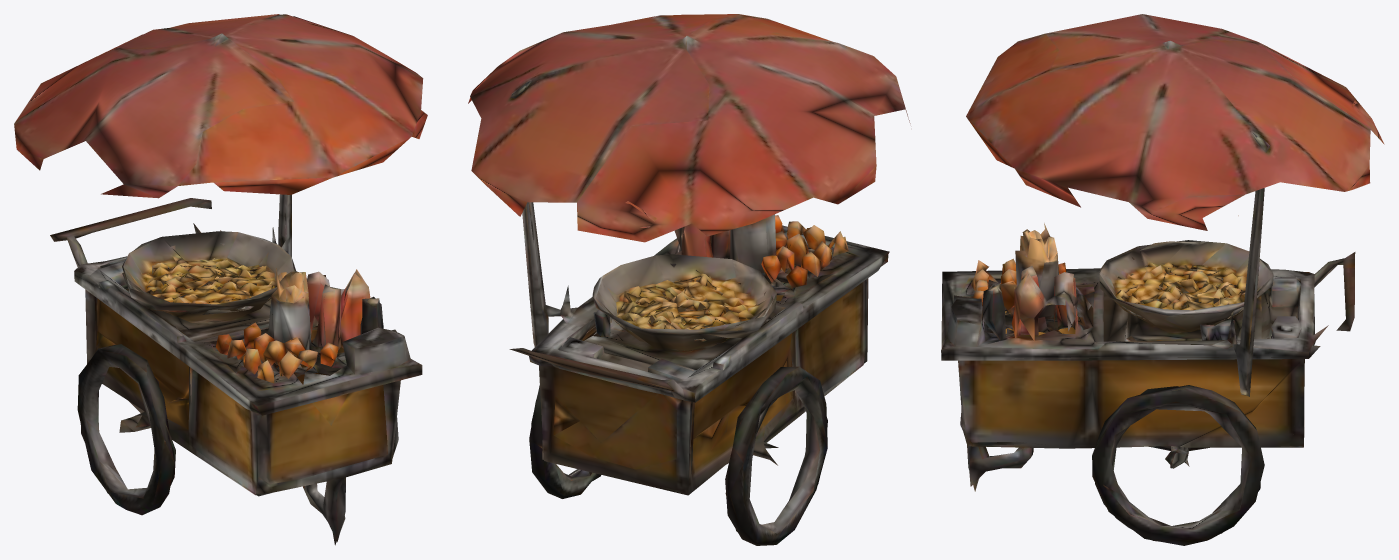
Rendered from fishball-cart.glb.
The picture shows the model from 3 angles, left to right: view 1: azimuth 30°, elevation 25°; view 2: azimuth 150°, elevation 25°; view 3: azimuth 270°, elevation 25°; orthographic projection. The views are drawn at different scales.
Parts seen in each view (by area): view 1: geometry_0; view 2: geometry_0; view 3: geometry_0.
Part boxes in pixels (x1=…): geometry_0: x1=14, y1=14, x2=427, y2=545; geometry_0: x1=468, y1=14, x2=910, y2=545; geometry_0: x1=941, y1=14, x2=1384, y2=545.
Size of the model in its own units: 0.8502 by 1 by 0.8827.
Materials: 1 (1 with a texture image).
